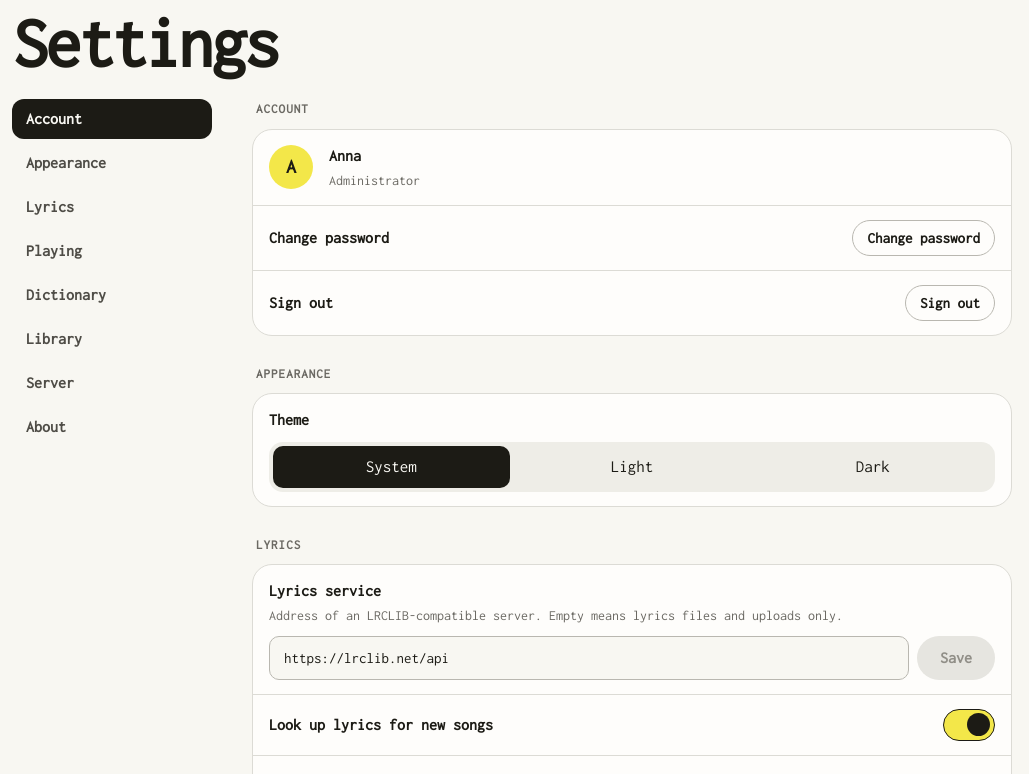
Test: SettingsPage › the service address has its own Save, enabled only after an edit, and it checks the server first
The image size is (1029, 774).
Expected: the text "Lyrics service" is shown, [269,582,381,599]
Expected: the button "Save" is disabled, [917,636,995,680]
Replace the text in the field named "Lyrics service" with "https://my.test/api": (589, 658) [269,636,909,680]
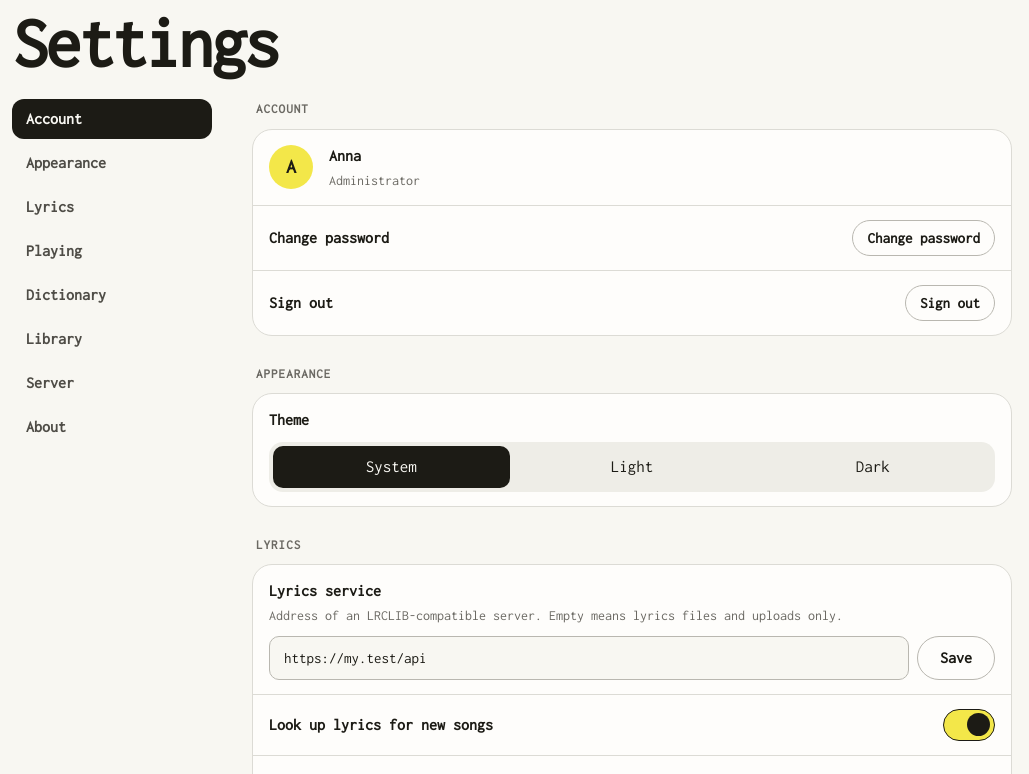
Expected: the button "Save" is enabled
Click the button "Save": (956, 658) [917,636,995,680]
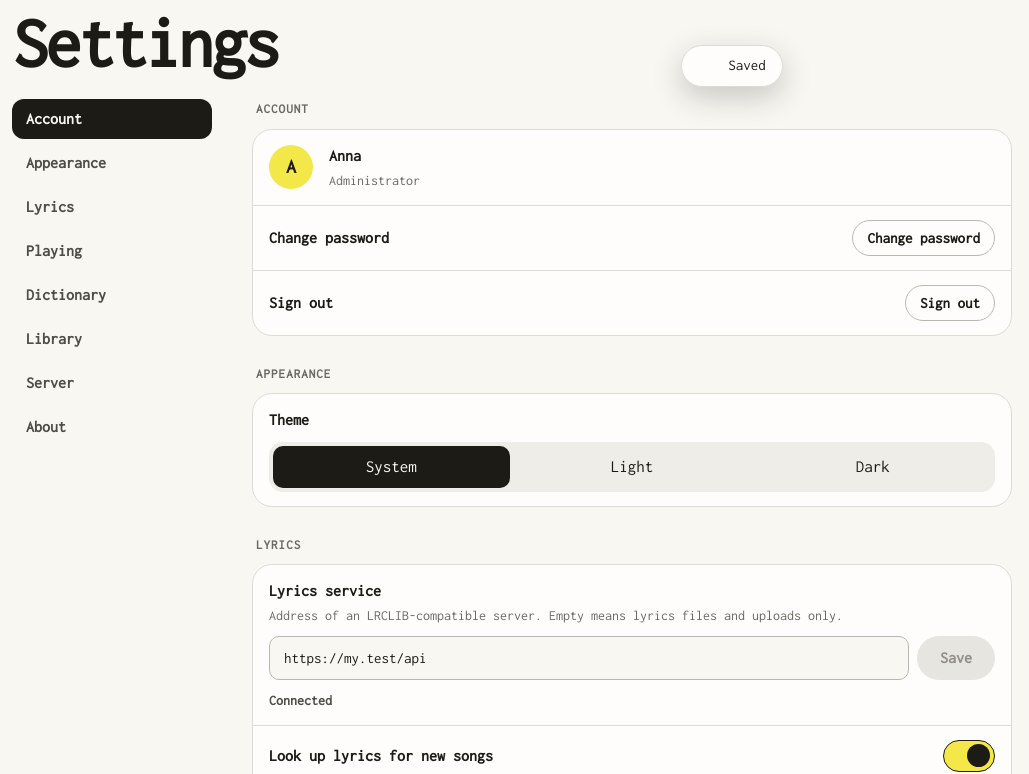
Expected: the text "Connected" is shown, [269,693,332,708]
